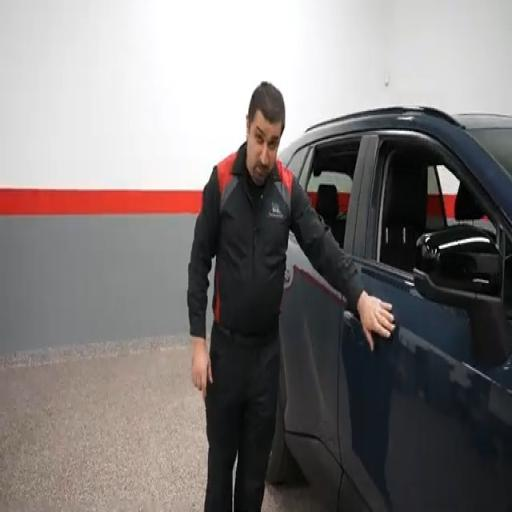door: (339, 133, 511, 511), (280, 234, 342, 502)
side_mirror: (414, 225, 511, 365)
tire: (266, 365, 303, 486)
window: (376, 140, 511, 315), (376, 140, 495, 273), (301, 138, 359, 247), (280, 147, 307, 177)
windshield: (468, 128, 511, 177)
